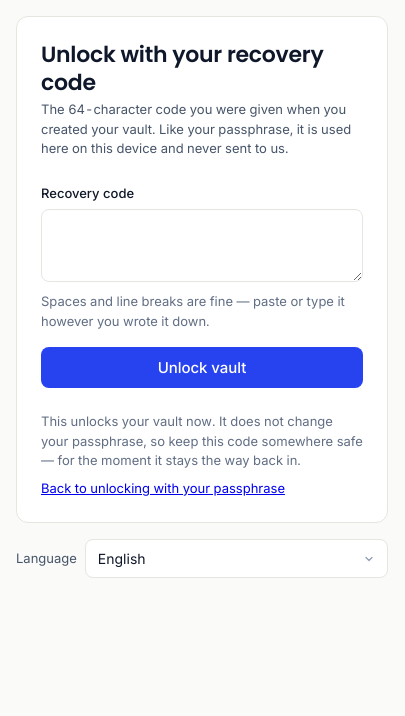
Test: Recover: the three failures stay distinct › rejects a malformed code WITHOUT deriving
The image size is (405, 716).
Type "not-a-recovery-code" into the text box labelled "Recovery code" at (202, 246), box left=41, top=209, right=363, bottom=282
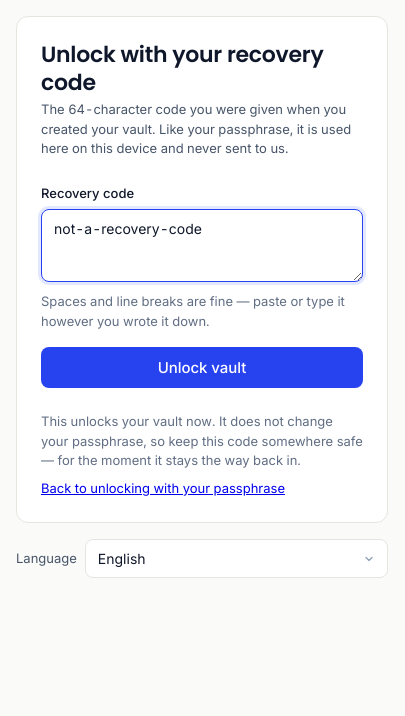
Click the button "Unlock vault" at (202, 368), box left=41, top=347, right=363, bottom=388
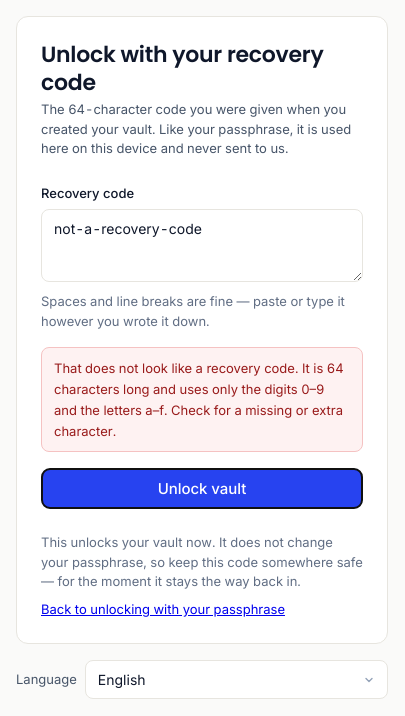
Check: the message does not show "did not unlock this vault", box left=41, top=347, right=363, bottom=452
Check: the message shows "does not look like a recovery code", box left=54, top=360, right=344, bottom=439
